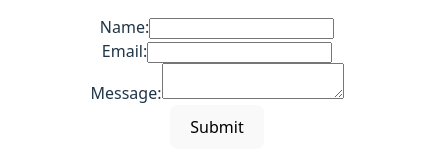
Test: ContactForm Component › clears error when user starts typing
Submit empty form to show errors
Click the button with test id "submit-button": coordinates (217, 127) left=170, top=105, right=264, bottom=149
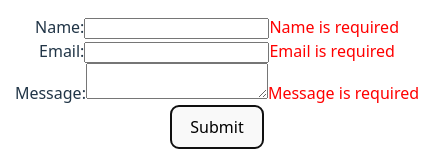
Check: the text "Name is required" is shown, box left=269, top=16, right=399, bottom=38
Start typing in name field
In the field with test id "name-input": coordinates (177, 29) left=84, top=18, right=269, bottom=39, type "J"
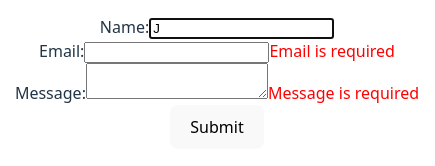
Check: the text with test id "name-error" is gone
